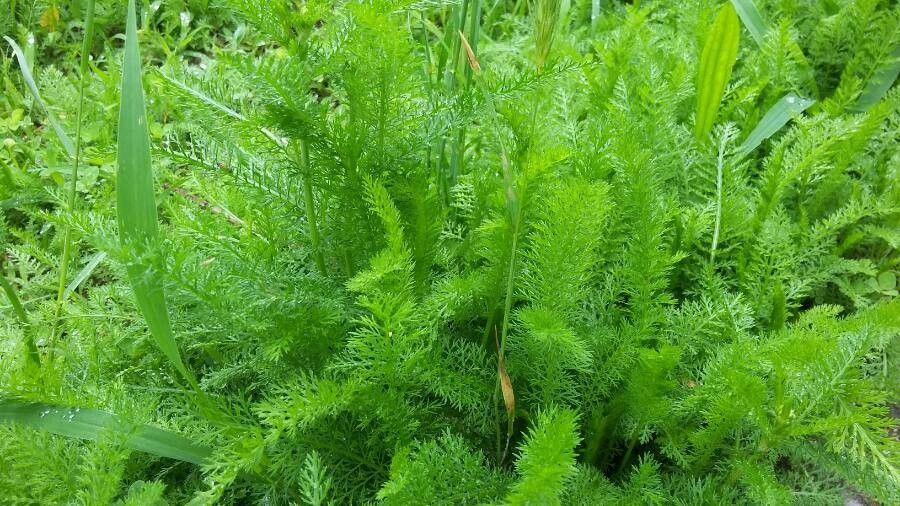obstacle: (275, 83, 760, 466), (42, 161, 271, 499), (96, 8, 199, 407)
